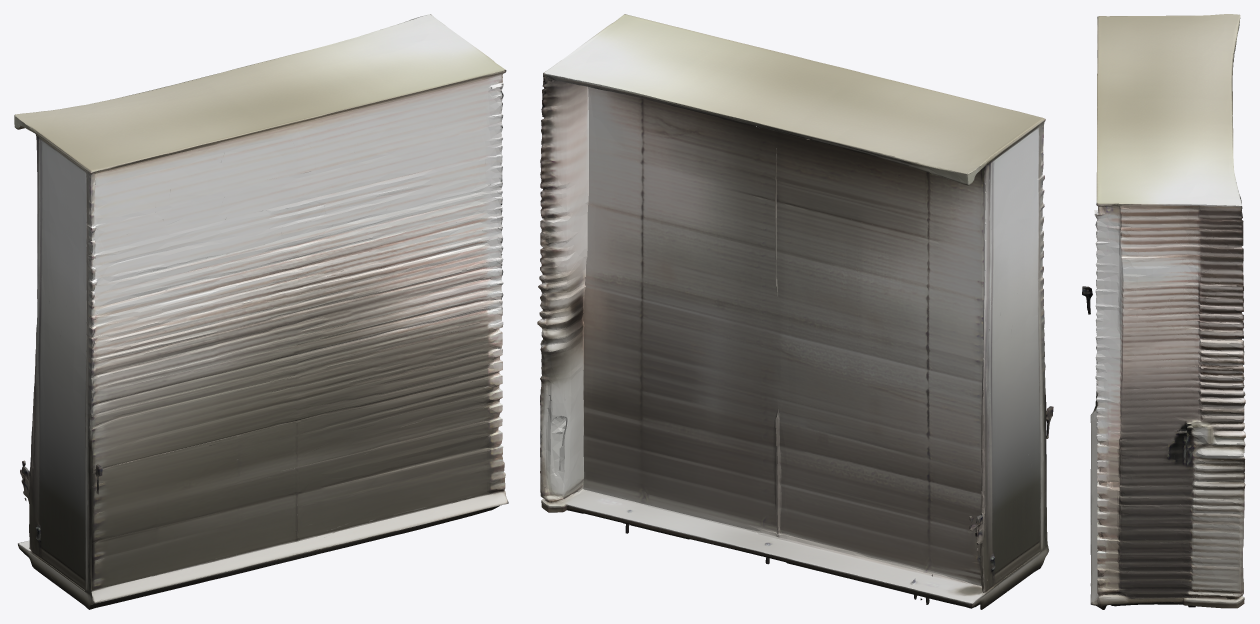
3 renders of one model, left to right at view 1: azimuth 30°, elevation 25°; view 2: azimuth 150°, elevation 25°; view 3: azimuth 270°, elevation 25°, orthographic. The views are drawn at different scales.
Visible parts, largest first — view 1: geometry_0; view 2: geometry_0; view 3: geometry_0.
Part boxes in pixels (x1,y1,x2,y2): geometry_0: (14,14,508,609); geometry_0: (537,14,1053,609); geometry_0: (1082,14,1245,609).
Size of the model in its own units: 0.9885 by 1 by 0.3559.
1 material, 1 textured.
